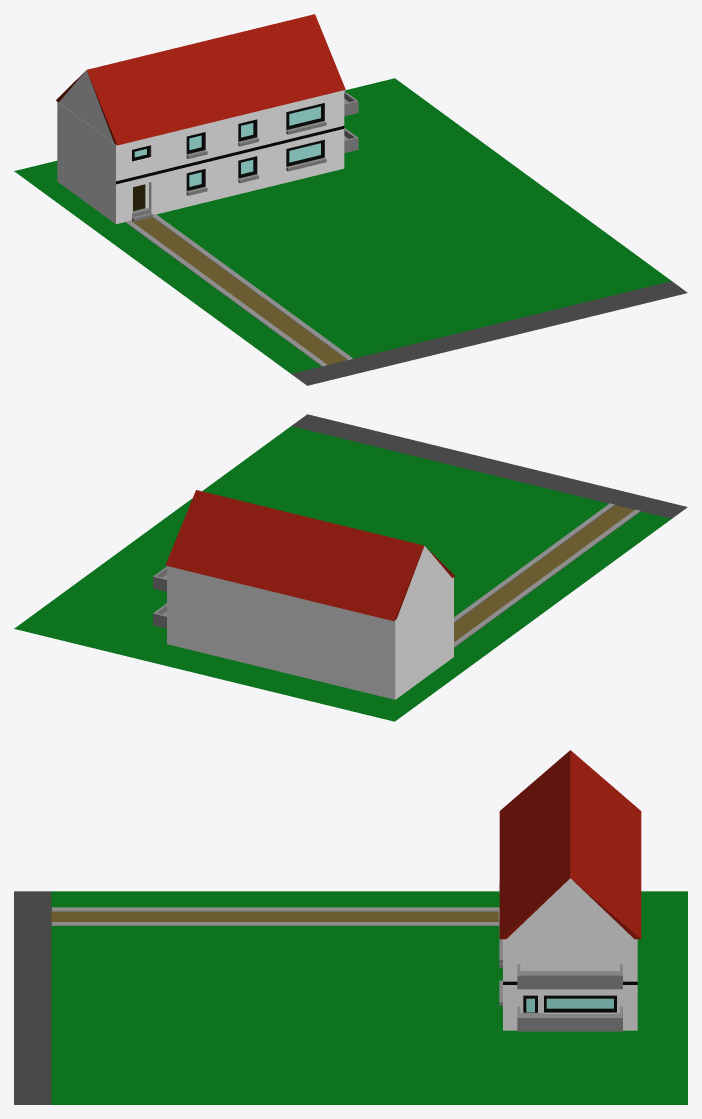
Rendered from Garden_001.fbx.
3 views of the same model, one above another, from view 1: azimuth 30°, elevation 25°; view 2: azimuth 150°, elevation 25°; view 3: azimuth 270°, elevation 25° (orthographic). The views are drawn at different scales.
Parts seen in each view (by area): view 1: Garden, House; view 2: Garden, House; view 3: Garden, House.
Boxes of the visible parts, x1,y1,x2,y2 form: Garden: (14,78,687,385); House: (56,14,358,224); Garden: (14,414,687,721); House: (153,490,454,699); Garden: (14,891,687,1104); House: (498,750,641,1031).
Bounding box in the file's own units: 15000 × 5025 × 20008.
